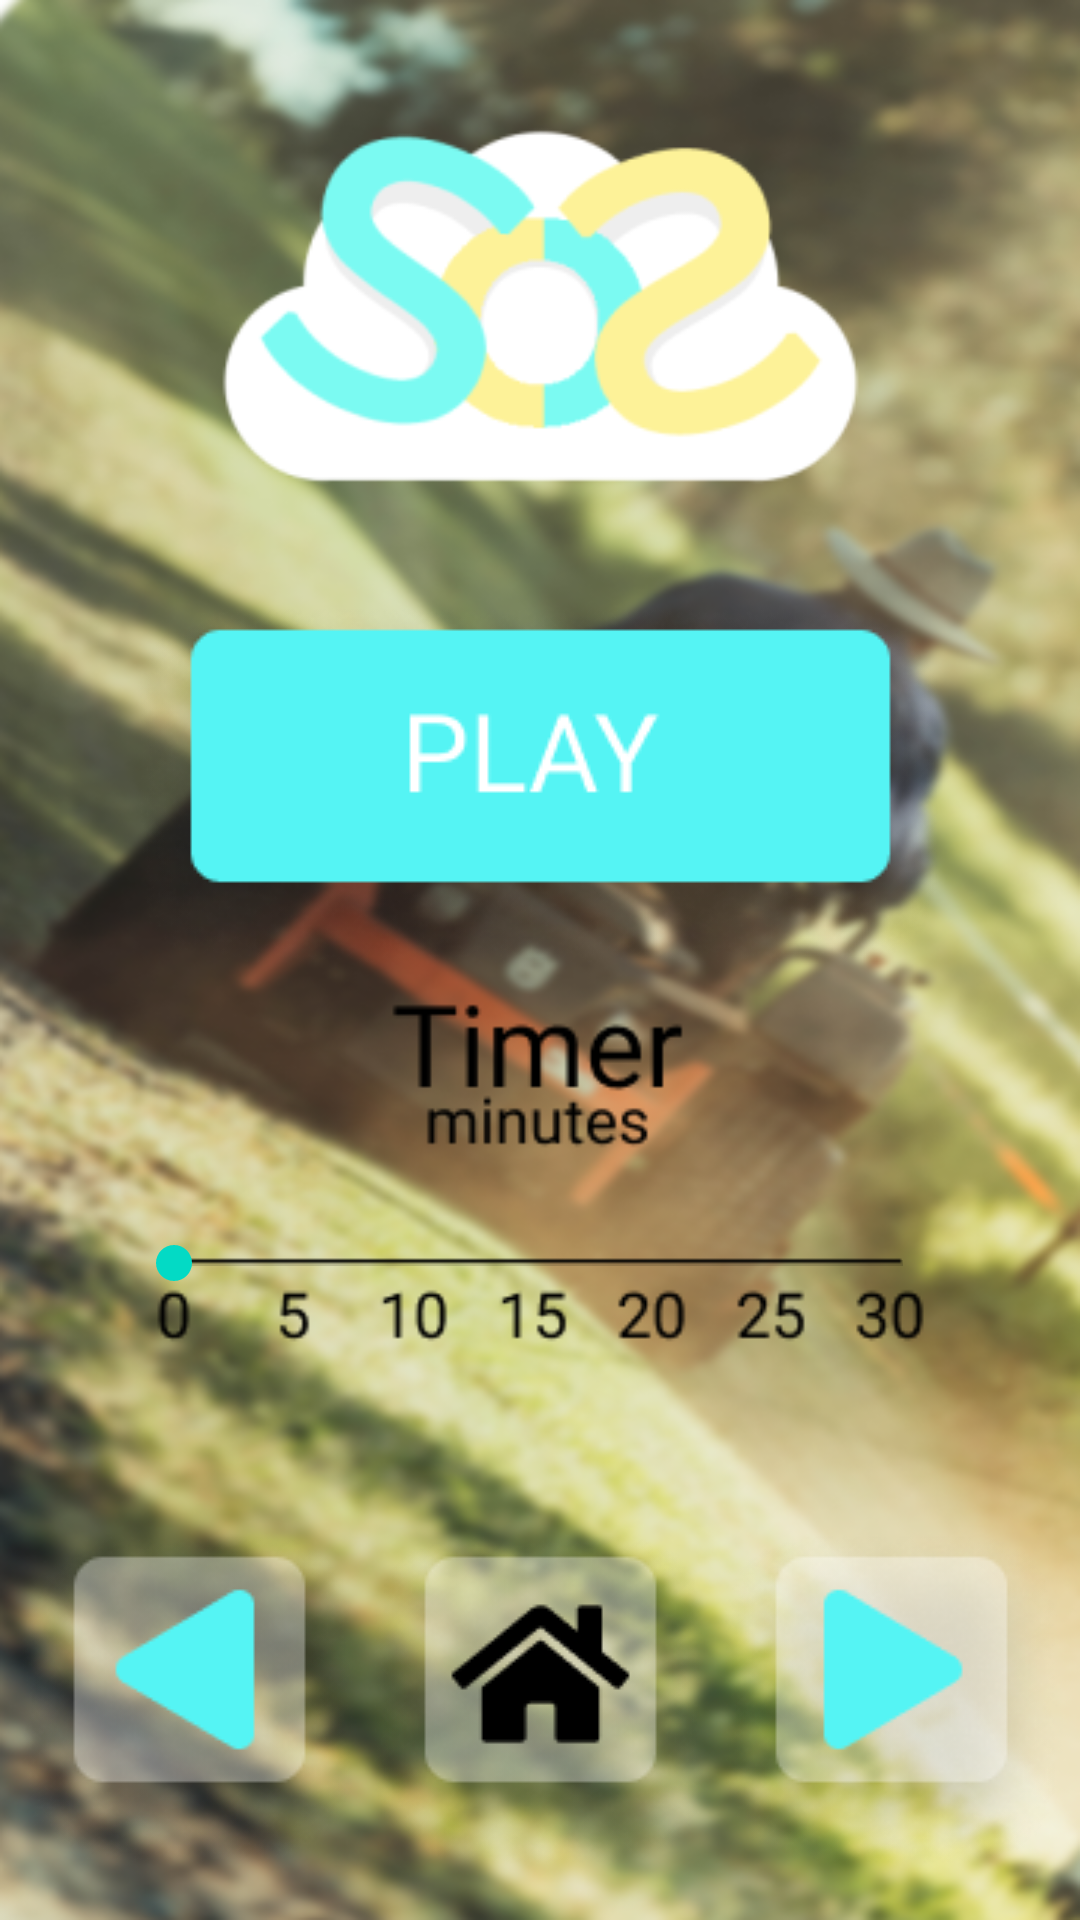

Screen size 1080 x 1920. Icon name, then its center in pixels as [x,y]:
homebutton: [540,1699]
nextbutton: [891,1699]
previousbutton: [189,1699]
